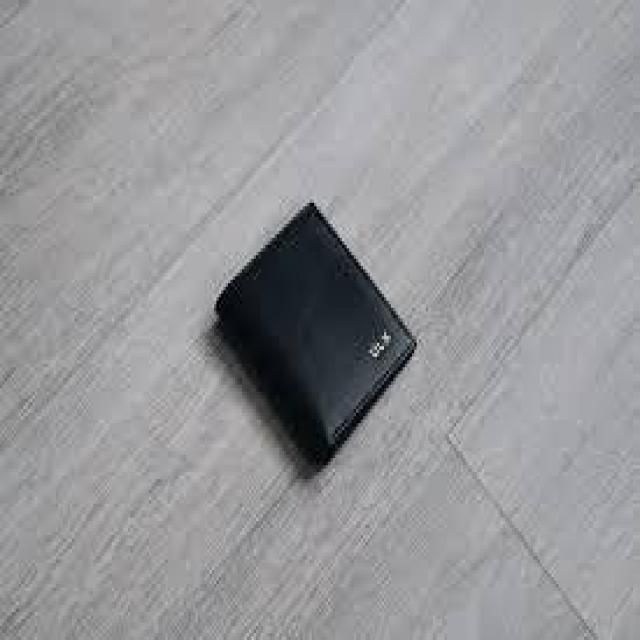cuzdan: (203, 202, 470, 472)
